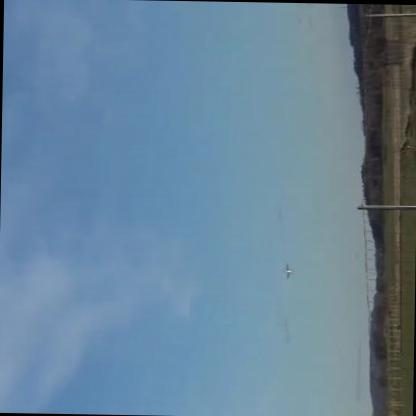plane: (284, 262, 294, 280)
